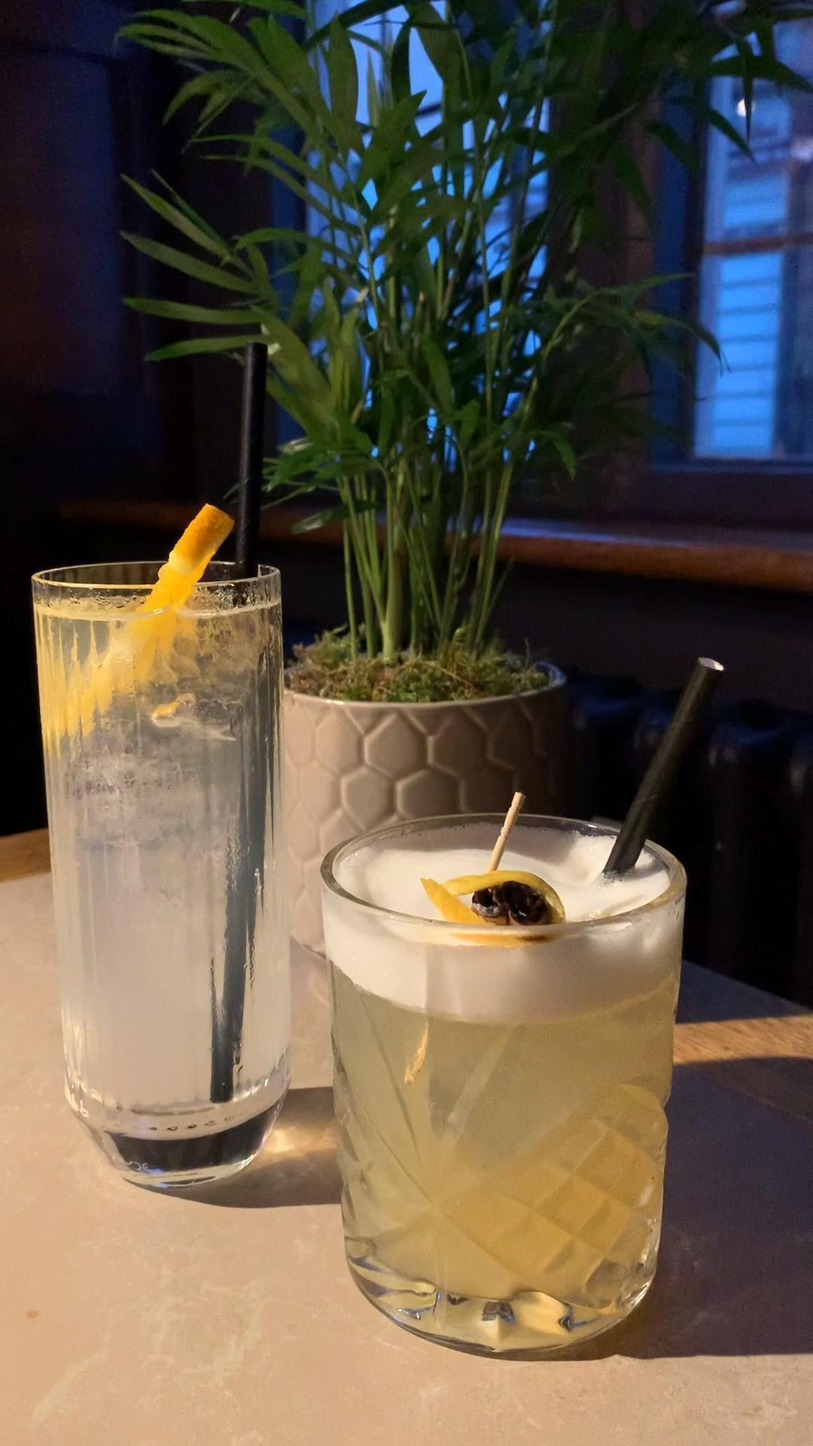glass-normal: (315, 808, 691, 1360), (26, 555, 299, 1185)
